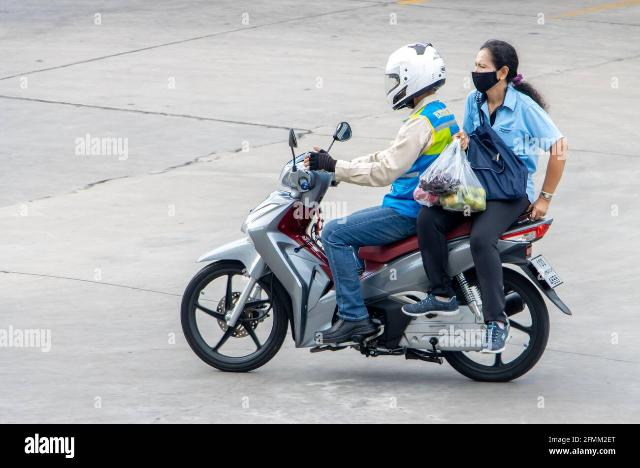helm: (386, 44, 446, 113)
motor: (181, 120, 573, 385)
non-helm: (473, 41, 519, 89)
